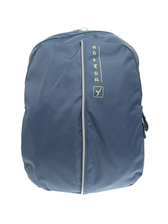bag: (17, 25, 149, 193)
